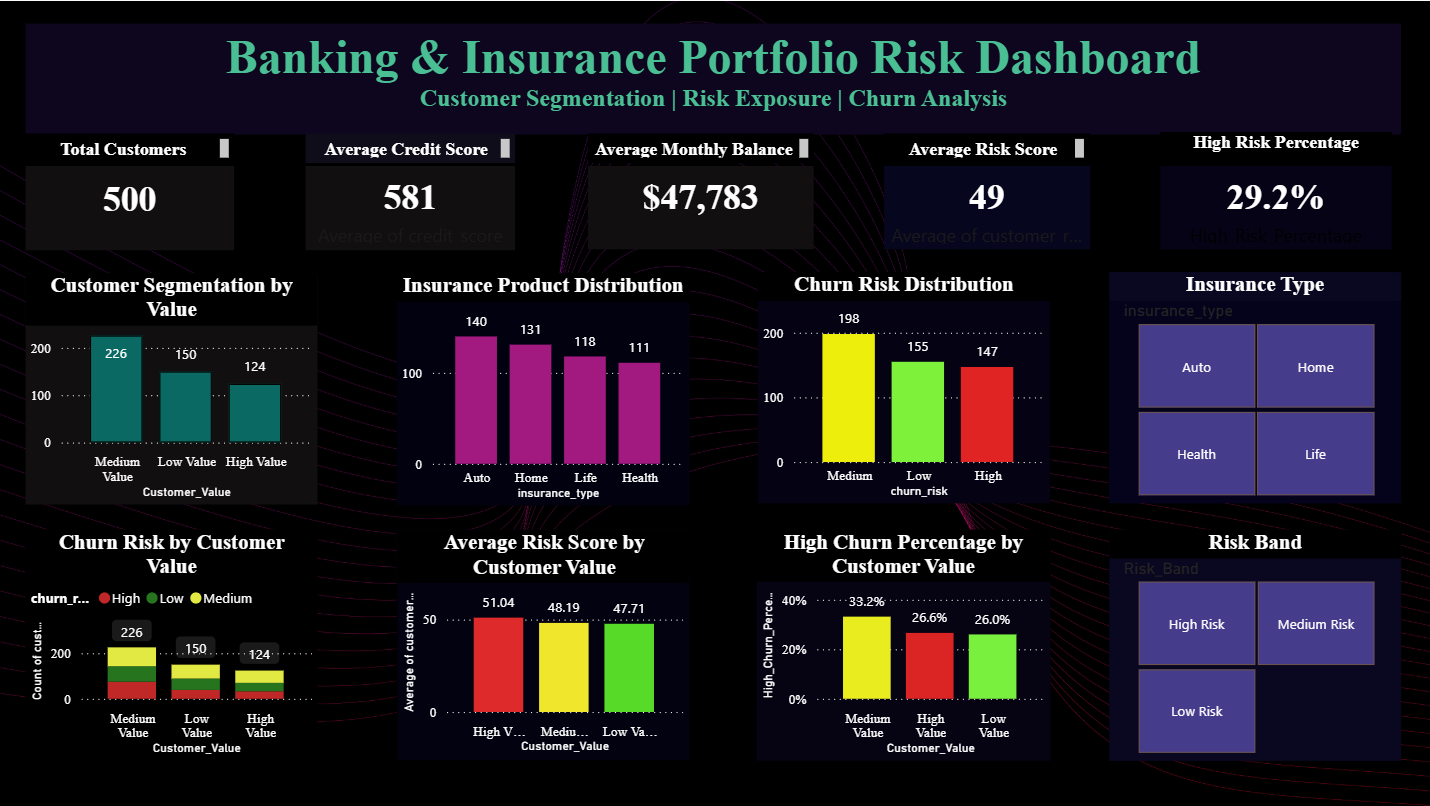

The page's visual inventory and layout, read from the dashboard file:
{"tool":"powerbi","page":{"name":"Banking & Insurance Portfolio Risk Dashboard","canvas":[1280,720],"ordinal":0},"visuals":[{"type":"card","fields":{"Values":["CountNonNull(public customer_financial_profile.customer_id)"]},"box":[24.6,147.4,186.5,74.8],"z":0},{"type":"card","fields":{"Values":["Avg(public customer_financial_profile.credit_score)"]},"box":[274.7,147.4,187.6,74.8],"z":1000},{"type":"card","fields":{"Values":["Avg(public customer_financial_profile.avg_monthly_balance)"]},"box":[527.1,147.7,201.7,74.4],"z":2000},{"type":"card","fields":{"Values":["Avg(public customer_financial_profile.customer_risk_score)"]},"box":[791.3,147.7,183.7,74.4],"z":3000},{"type":"clusteredColumnChart","title":"Customer Segmentation by Value","fields":{"Category":["public customer_financial_profile.Customer_Value"],"Y":["CountNonNull(public customer_financial_profile.customer_id)"]},"box":[25,243,261,206],"z":4000},{"type":"clusteredColumnChart","title":"Insurance Product Distribution","fields":{"Category":["public customer_financial_profile.insurance_type"],"Y":["CountNonNull(public customer_financial_profile.customer_id)"]},"box":[355.8,243,261.6,207],"z":5000},{"type":"clusteredColumnChart","title":"Churn Risk Distribution ","fields":{"Category":["public customer_financial_profile.churn_risk"],"Y":["CountNonNull(public customer_financial_profile.customer_id)"]},"box":[678.4,242.6,260.6,206.5],"z":6000},{"type":"columnChart","title":"Churn Risk by Customer Value","fields":{"Category":["public customer_financial_profile.Customer_Value"],"Y":["CountNonNull(public customer_financial_profile.customer_id)"],"Series":["public customer_financial_profile.churn_risk"]},"box":[25,472,261,206],"z":7000},{"type":"clusteredColumnChart","title":"Average Risk Score by Customer Value","fields":{"Category":["public customer_financial_profile.Customer_Value"],"Y":["Avg(public customer_financial_profile.customer_risk_score)"]},"box":[356,472,262,206],"z":8000},{"type":"clusteredColumnChart","title":"High Churn Percentage by Customer Value","fields":{"Category":["public customer_financial_profile.Customer_Value"],"Y":["public customer_financial_profile.High_Churn_Percentage"]},"box":[678,472,262,206],"z":9000},{"type":"slicer","title":"Insurance Type","fields":{"Values":["public customer_financial_profile.insurance_type"]},"box":[993,242.6,260.6,206.5],"z":10000},{"type":"slicer","title":"Risk Band ","fields":{"Values":["public customer_financial_profile.Risk_Band"]},"box":[993,472,261,206],"z":11000},{"type":"textbox","box":[24.4,19.8,1229.1,98.8],"z":12000},{"type":"textbox","box":[24.6,118.4,186.5,26.8],"z":13000},{"type":"textbox","box":[274.7,118.4,187.6,26.8],"z":14000},{"type":"textbox","box":[791.3,118.9,183.7,26.4],"z":15000},{"type":"textbox","box":[527.1,118.9,201.7,26.4],"z":16000},{"type":"card","fields":{"Values":["public customer_financial_profile.High_Risk_Percentage"]},"box":[1038.6,147.7,206.5,74.4],"z":16001},{"type":"textbox","title":"High Risk Percentage ","box":[1038.6,117.7,206.5,27.6],"z":16002}]}

Visuals, with their boxes in screenshot pixels (x1, y1, x2, y2), scaled from the page's 1280x720 canvas onto the 1430x806 screenshot:
card - CountNonNull(public customer_financial_profile.customer_id): 27 165 236 249
card - Avg(public customer_financial_profile.credit_score): 307 165 516 249
card - Avg(public customer_financial_profile.avg_monthly_balance): 589 165 814 249
card - Avg(public customer_financial_profile.customer_risk_score): 884 165 1089 249
"Customer Segmentation by Value" clusteredColumnChart: 28 272 320 503
"Insurance Product Distribution" clusteredColumnChart: 397 272 690 504
"Churn Risk Distribution " clusteredColumnChart: 758 272 1049 503
"Churn Risk by Customer Value" columnChart: 28 528 320 759
"Average Risk Score by Customer Value" clusteredColumnChart: 398 528 690 759
"High Churn Percentage by Customer Value" clusteredColumnChart: 757 528 1050 759
"Insurance Type" slicer: 1109 272 1401 503
"Risk Band " slicer: 1109 528 1401 759
textbox: 27 22 1400 133
textbox: 27 133 236 163
textbox: 307 133 516 163
textbox: 884 133 1089 163
textbox: 589 133 814 163
card - public customer_financial_profile.High_Risk_Percentage: 1160 165 1391 249
"High Risk Percentage " textbox: 1160 132 1391 163
